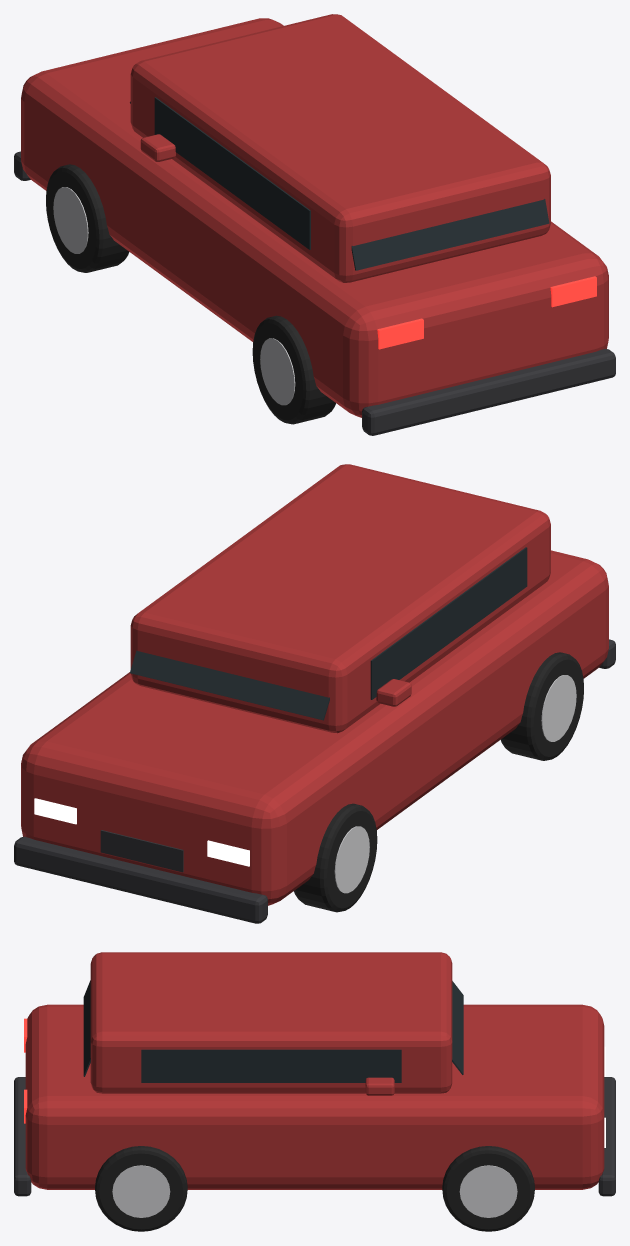
Rendered from car_hatch.glb.
3 renders of one model, top to bottom at view 1: azimuth 30°, elevation 25°; view 2: azimuth 150°, elevation 25°; view 3: azimuth 270°, elevation 25°, orthographic. The views are drawn at different scales.
Parts seen in each view (by area): view 1: car_hatch; view 2: car_hatch; view 3: car_hatch.
Part boxes in pixels (x1,y1,x2,y2): car_hatch: (14,14,615,435); car_hatch: (14,464,615,923); car_hatch: (14,952,615,1231).
Bounding box in the file's own units: 1.89 × 1.4 × 4.16.
